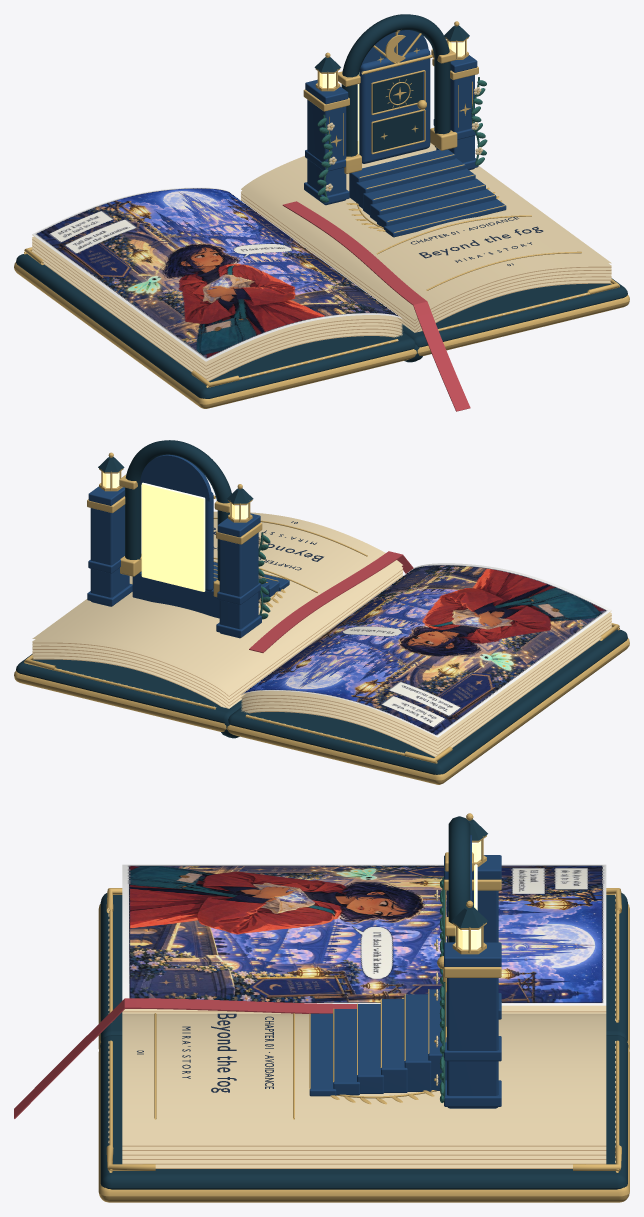
Rendered from storybook-study.glb.
3 renders of one model, top to bottom at view 1: azimuth 30°, elevation 25°; view 2: azimuth 150°, elevation 25°; view 3: azimuth 270°, elevation 25°, orthographic. The views are drawn at different scales.
Visible parts, largest first — view 1: Mira chapter illustration.006, Open paper.013, Padded cloth hardcover.012, Padded cloth hardcover.013, Portal arch moulding.018, Gilt board edges.012, Coral silk bookmark.006, Inset enamel door.006, Stone gate buttress.004, Gilt board edges.013, Stone gate buttress.005, Blue stone stair.017 (+20 smaller); view 2: Mira chapter illustration.006, Open paper.013, Padded cloth hardcover.012, Warm light beyond the threshold, Padded cloth hardcover.013, Gilt board edges.012, Portal arch moulding.018, Stone gate buttress.004, Stone gate buttress.005, Coral silk bookmark.006, Gilt board edges.013, Arched turquoise fanlight.004 (+39 smaller); view 3: Mira chapter illustration.006, Open paper.013, Padded cloth hardcover.013, Gilt board edges.013, Stone gate buttress.005, Padded cloth hardcover.012, Coral silk bookmark.006, Individual signatures.321, Blue stone stair.016, Portal arch moulding.018, Blue stone stair.015, Blue stone stair.014 (+29 smaller).
Part boxes in pixels (bbox=[...]): Mira chapter illustration.006: bbox=[32, 187, 402, 361]; Open paper.013: bbox=[241, 141, 611, 316]; Padded cloth hardcover.012: bbox=[16, 254, 415, 398]; Padded cloth hardcover.013: bbox=[401, 278, 627, 347]; Portal arch moulding.018: bbox=[341, 14, 450, 156]; Gilt board edges.012: bbox=[14, 262, 416, 408]; Coral silk bookmark.006: bbox=[282, 201, 470, 411]; Inset enamel door.006: bbox=[359, 48, 430, 163]; Stone gate buttress.004: bbox=[307, 99, 346, 205]; Gilt board edges.013: bbox=[417, 294, 629, 355]; Stone gate buttress.005: bbox=[436, 75, 474, 170]; Blue stone stair.017: bbox=[349, 149, 455, 201]; Mira chapter illustration.006: bbox=[241, 563, 611, 737]; Open paper.013: bbox=[32, 511, 402, 692]; Padded cloth hardcover.012: bbox=[228, 629, 627, 774]; Warm light beyond the threshold: bbox=[141, 482, 205, 591]; Padded cloth hardcover.013: bbox=[16, 654, 242, 723]; Gilt board edges.012: bbox=[227, 638, 629, 784]; Portal arch moulding.018: bbox=[125, 440, 231, 580]; Stone gate buttress.004: bbox=[219, 532, 258, 638]; Stone gate buttress.005: bbox=[90, 504, 129, 606]; Coral silk bookmark.006: bbox=[249, 551, 413, 652]; Gilt board edges.013: bbox=[14, 670, 226, 731]; Arched turquoise fanlight.004: bbox=[140, 454, 212, 501]; Mira chapter illustration.006: bbox=[122, 864, 606, 1005]; Open paper.013: bbox=[122, 1013, 606, 1140]; Padded cloth hardcover.013: bbox=[100, 1035, 627, 1189]; Gilt board edges.013: bbox=[98, 1047, 629, 1202]; Stone gate buttress.005: bbox=[447, 978, 498, 1108]; Padded cloth hardcover.012: bbox=[100, 893, 627, 1041]; Coral silk bookmark.006: bbox=[14, 998, 356, 1118]; Individual signatures.321: bbox=[122, 1140, 606, 1144]; Blue stone stair.016: bbox=[404, 994, 431, 1091]; Portal arch moulding.018: bbox=[448, 816, 470, 942]; Blue stone stair.015: bbox=[381, 999, 407, 1092]; Blue stone stair.014: bbox=[357, 1004, 383, 1093].
Size of the model in its own units: 3.34 by 1.88 by 2.98.
10 materials, 1 textured.
